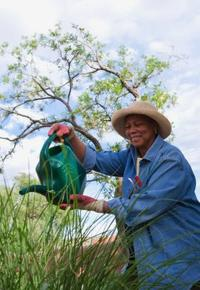person: (49, 101, 200, 290)
